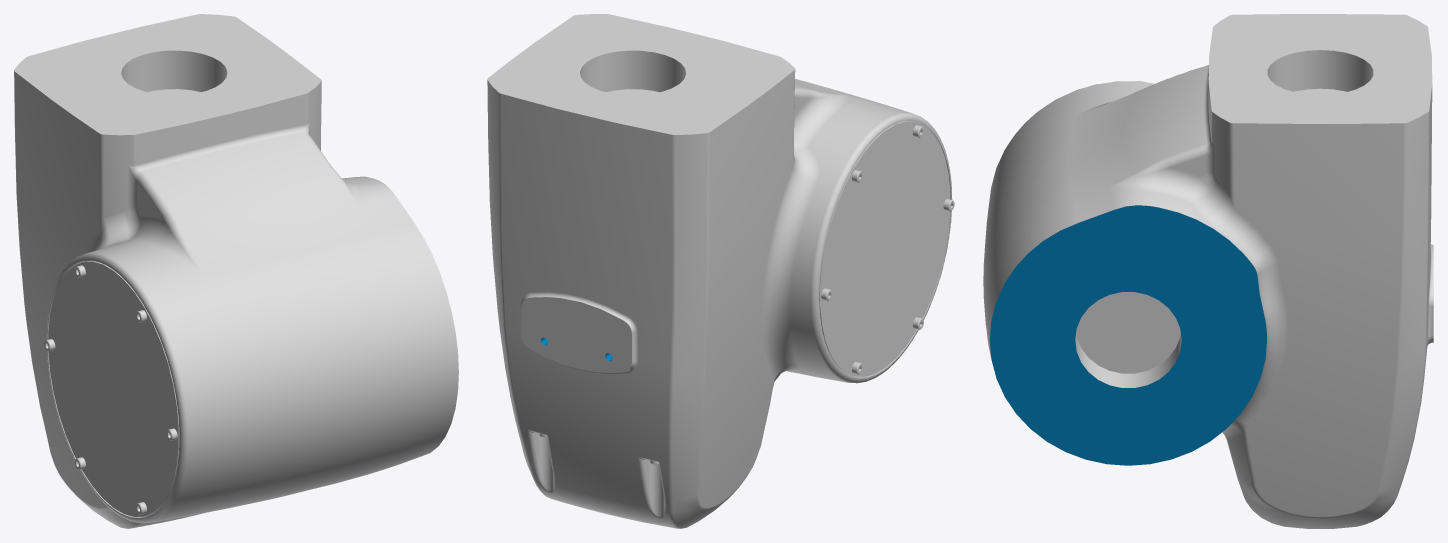
3 views of the same model, side by side, from view 1: azimuth 30°, elevation 25°; view 2: azimuth 150°, elevation 25°; view 3: azimuth 270°, elevation 25° (orthographic).
Parts seen in each view (by area): view 1: Viper 650, J3, standard, simplified; view 2: Viper 650, J3, standard, simplified; view 3: Viper 650, J3, standard, simplified.
Part boxes in pixels (bbox=[...]): Viper 650, J3, standard, simplified: bbox=[14, 14, 458, 528]; Viper 650, J3, standard, simplified: bbox=[487, 14, 954, 528]; Viper 650, J3, standard, simplified: bbox=[983, 14, 1433, 528].
Bounding box in the file's own units: 0.153 × 0.223 × 0.211.
